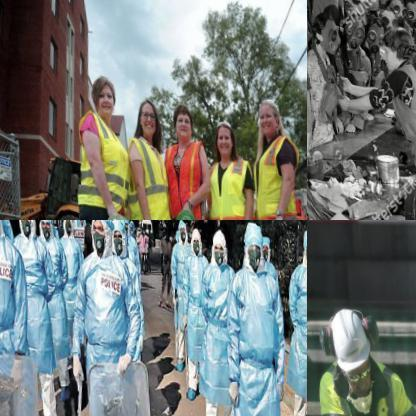vest: (68, 251, 148, 415), (225, 266, 290, 415), (11, 228, 59, 377), (0, 234, 37, 415), (68, 106, 129, 215), (199, 259, 240, 406), (246, 132, 304, 219), (118, 129, 168, 219), (35, 234, 68, 363), (317, 370, 409, 415), (159, 137, 206, 219), (181, 250, 214, 363), (204, 151, 254, 219), (286, 259, 306, 399), (170, 243, 196, 330), (59, 235, 85, 320)
